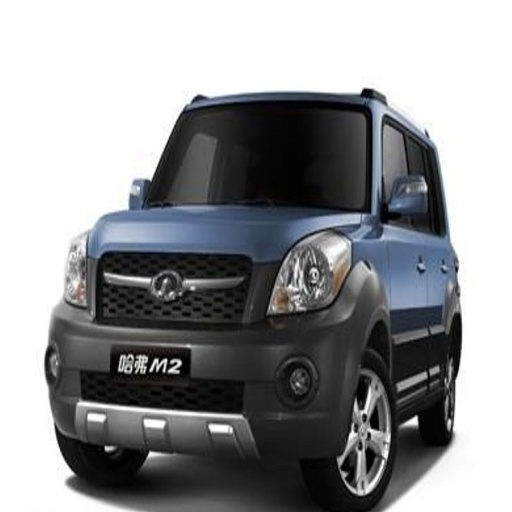front_bumper: (45, 248, 363, 460)
front_glass: (140, 102, 366, 209)
front_left_door: (379, 115, 428, 384)
front_right_light: (64, 235, 90, 309)
